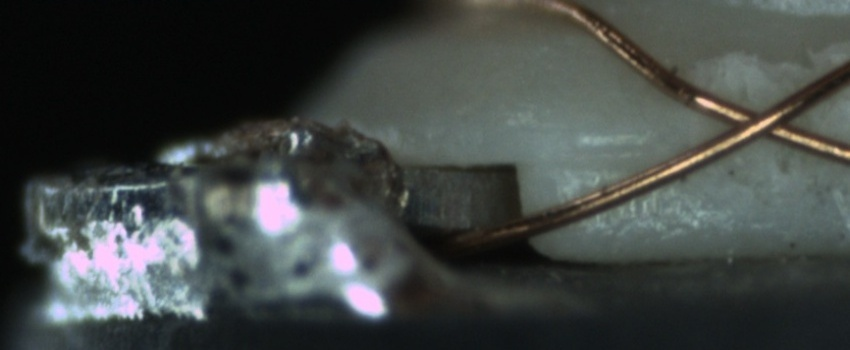CL: (697, 84, 824, 152)
DL: (545, 124, 670, 189)
